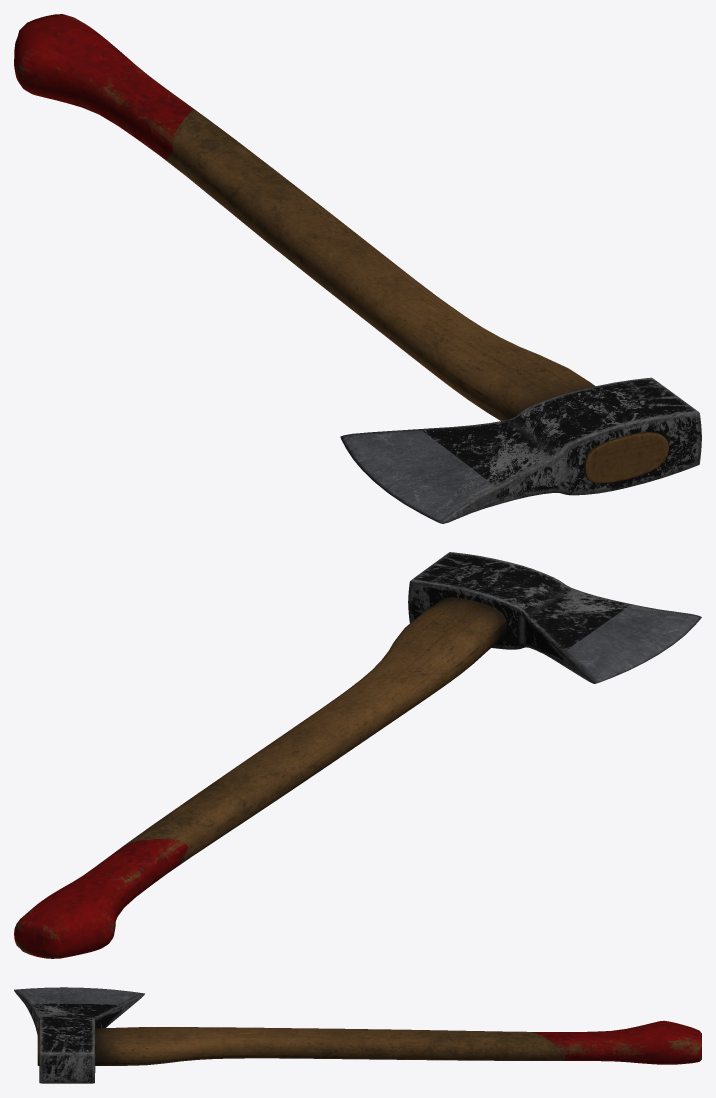
Rendered from axe.fbx.
The picture shows the model from 3 angles, top to bottom: view 1: azimuth 30°, elevation 25°; view 2: azimuth 150°, elevation 25°; view 3: azimuth 270°, elevation 25°; orthographic projection. The views are drawn at different scales.
Visible parts, largest first — view 1: w_axe_reference; view 2: w_axe_reference; view 3: w_axe_reference.
Boxes of the visible parts, left/top/right/bottom form: w_axe_reference: left=14, top=14, right=701, bottom=523; w_axe_reference: left=14, top=552, right=701, bottom=958; w_axe_reference: left=14, top=987, right=701, bottom=1083.
Bounding box in the file's own units: 21.47 × 4.48 × 76.32.
